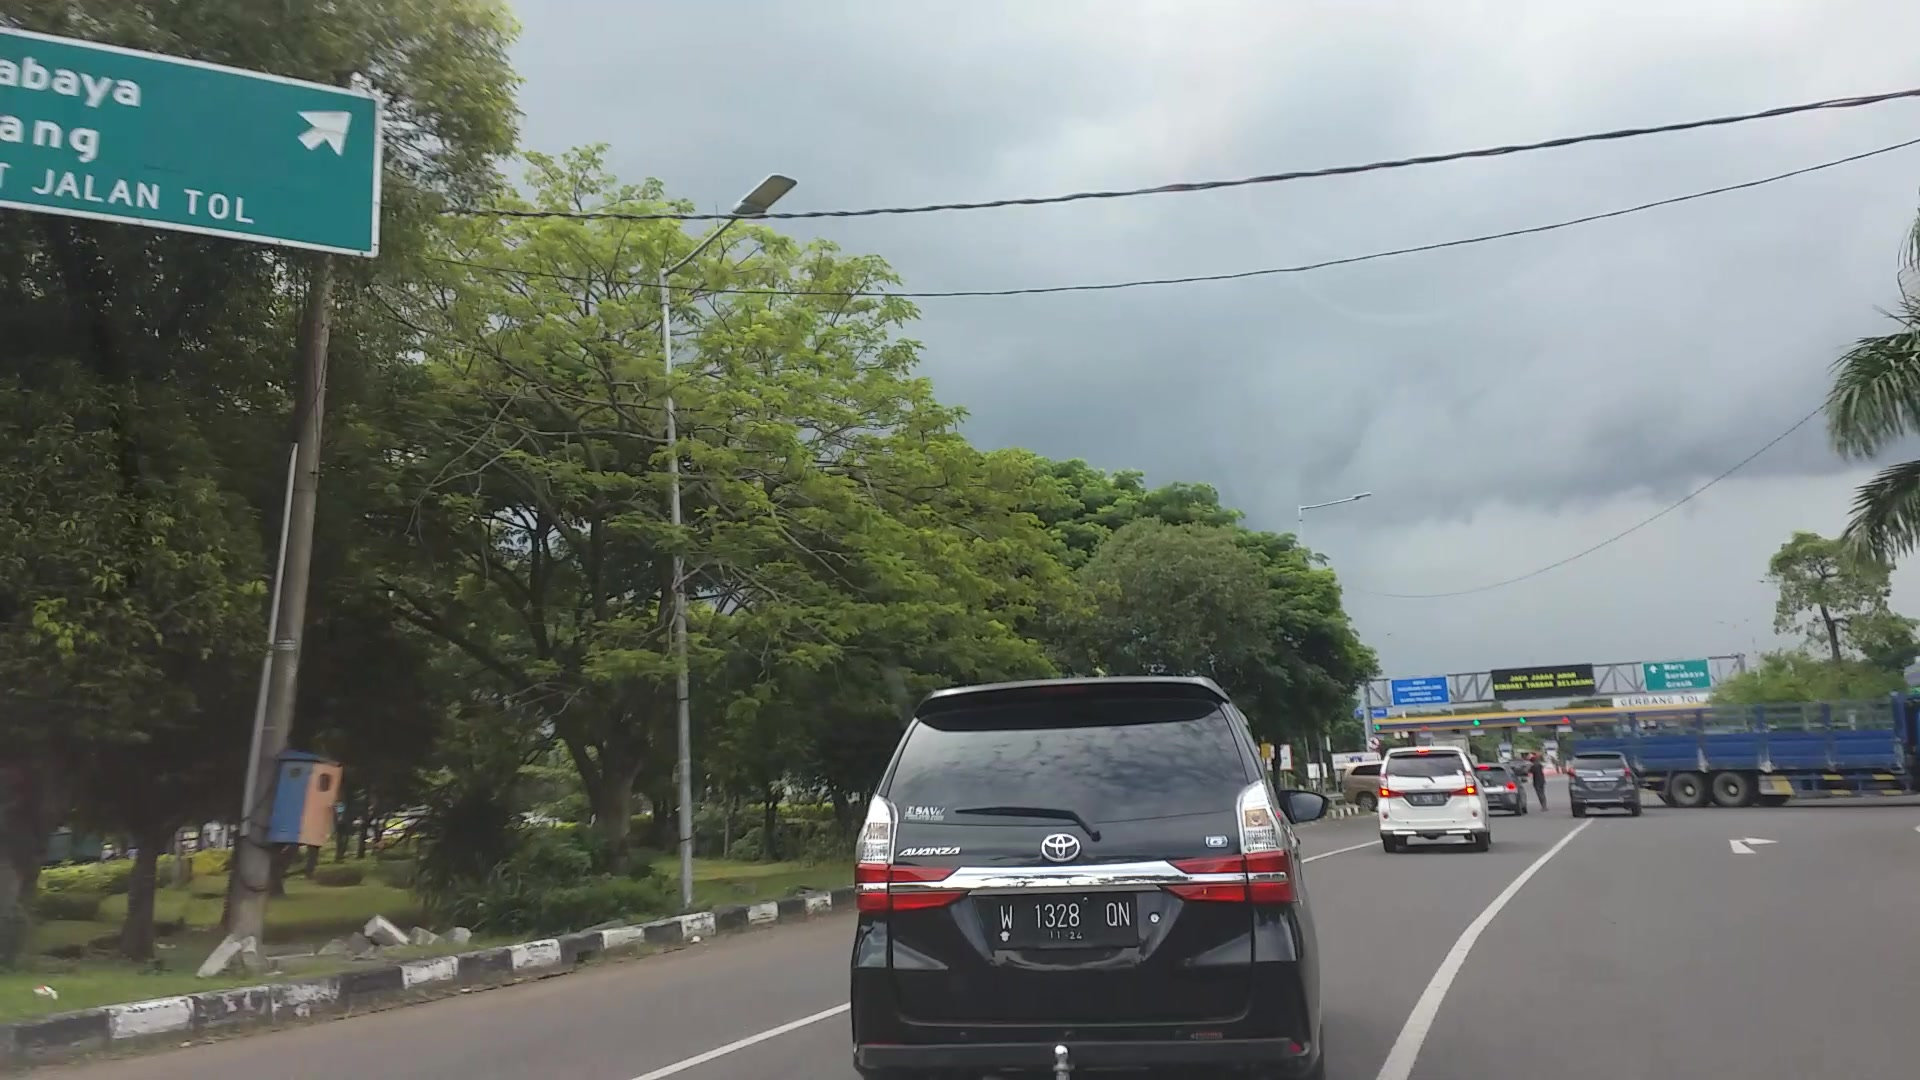plate_positive: (993, 895, 1138, 949)
